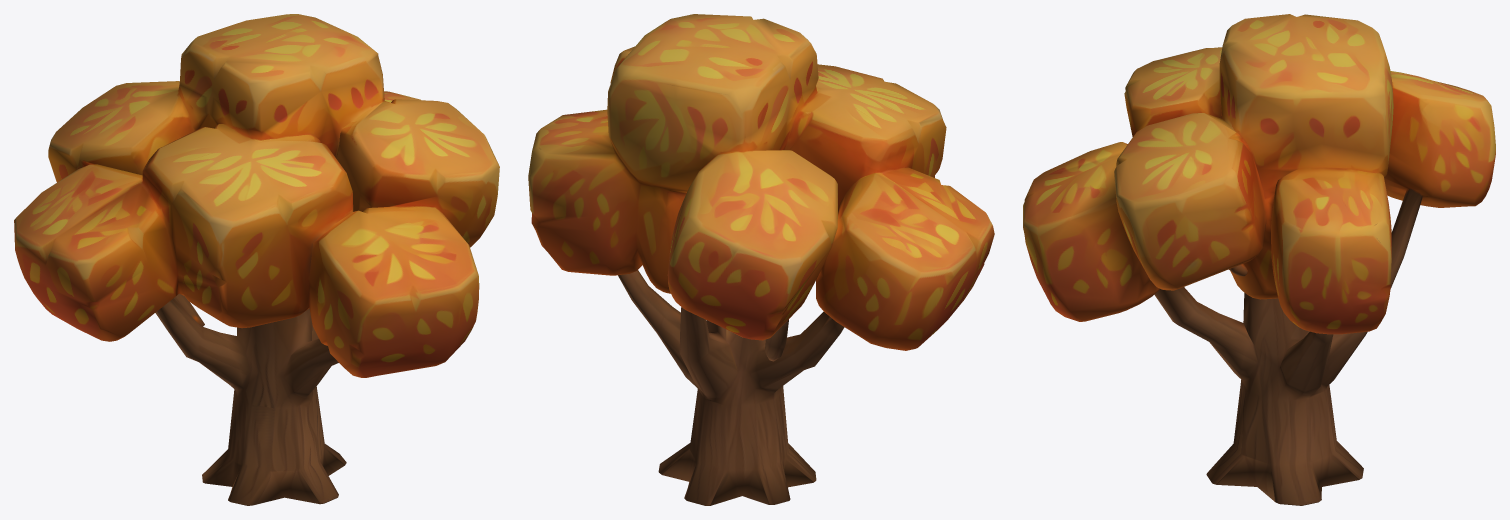
File: raw.glb
3 renders of one model, left to right at view 1: azimuth 30°, elevation 25°; view 2: azimuth 150°, elevation 25°; view 3: azimuth 270°, elevation 25°, orthographic. The views are drawn at different scales.
Visible parts, largest first — view 1: material; view 2: material; view 3: material.
Boxes of the visible parts, x1,y1,x2,y2 form: material: (14,14,499,505); material: (528,14,994,505); material: (1023,14,1495,505).
Size of the model in its own units: 1.9 by 1.9 by 1.87.
1 material, 1 textured.
